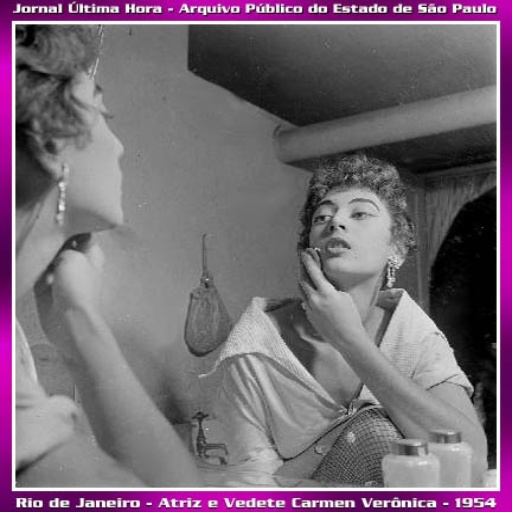hand: (29, 229, 111, 341), (295, 247, 359, 347)
